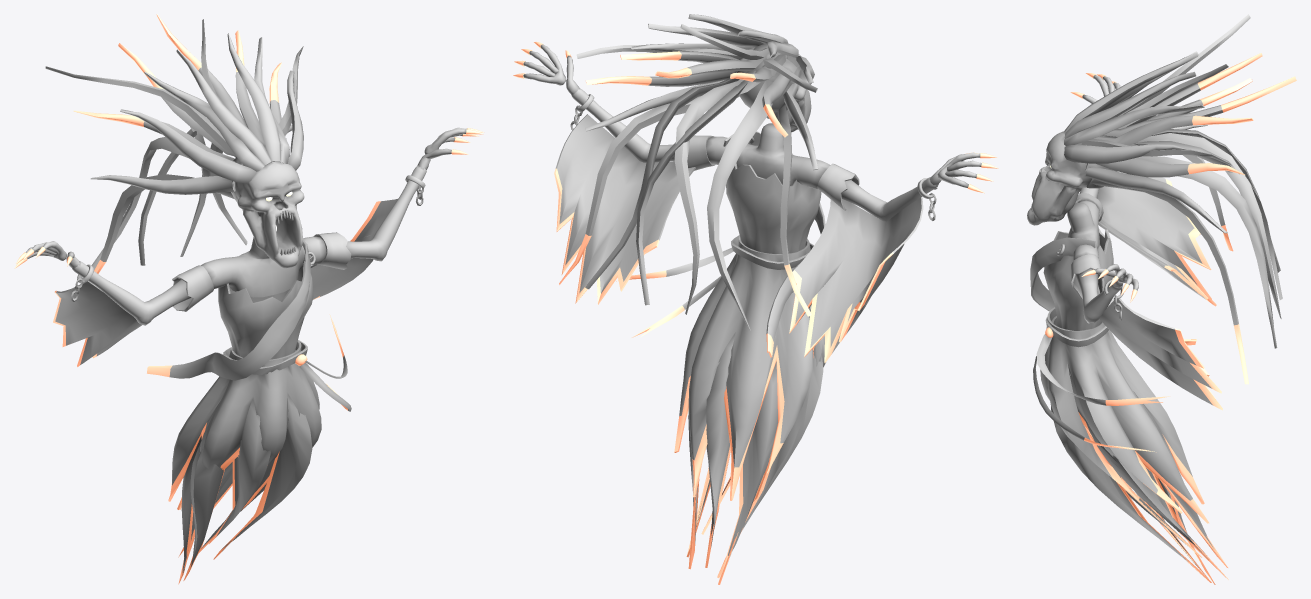
The model's file is banshee.glb.
3 views of the same model, side by side, from view 1: azimuth 30°, elevation 25°; view 2: azimuth 150°, elevation 25°; view 3: azimuth 270°, elevation 25° (orthographic). The views are drawn at different scales.
Parts seen in each view (by area): view 1: Banshee; view 2: Banshee; view 3: Banshee.
Part boxes in pixels (<box>): Banshee: <box>14,14,484,584</box>; Banshee: <box>513,14,998,584</box>; Banshee: <box>1027,14,1296,584</box>.
Bounding box in the file's own units: 0.9146 × 1.03 × 0.4697.
